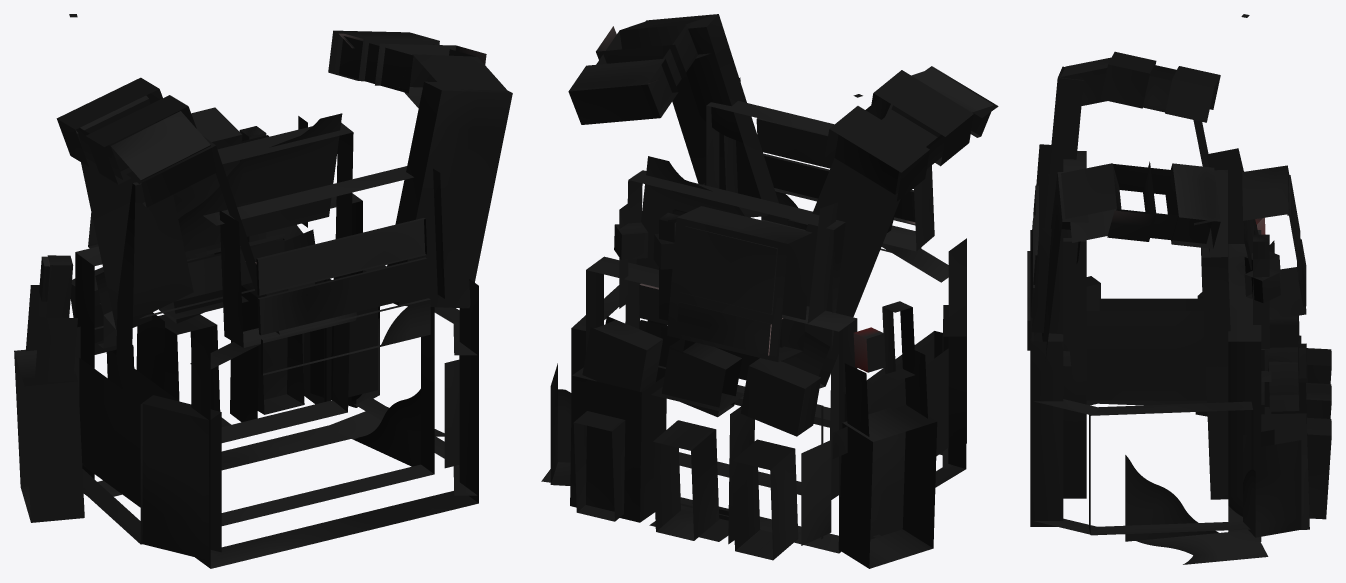
File: ghost.obj
3 views of the same model, side by side, from view 1: azimuth 30°, elevation 25°; view 2: azimuth 150°, elevation 25°; view 3: azimuth 270°, elevation 25° (orthographic). The views are drawn at different scales.
Parts seen in each view (by area): view 1: cuboid; view 2: cuboid; view 3: cuboid.
Part boxes in pixels (x1,y1,x2,y2): cuboid: (14,14,512,568); cuboid: (541,14,998,568); cuboid: (1027,14,1331,564).
Size of the model in its own units: 0.7789 by 0.8571 by 0.5772.
